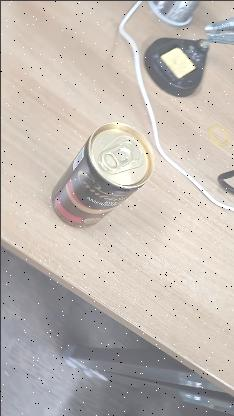Can: (47, 122, 151, 224)
